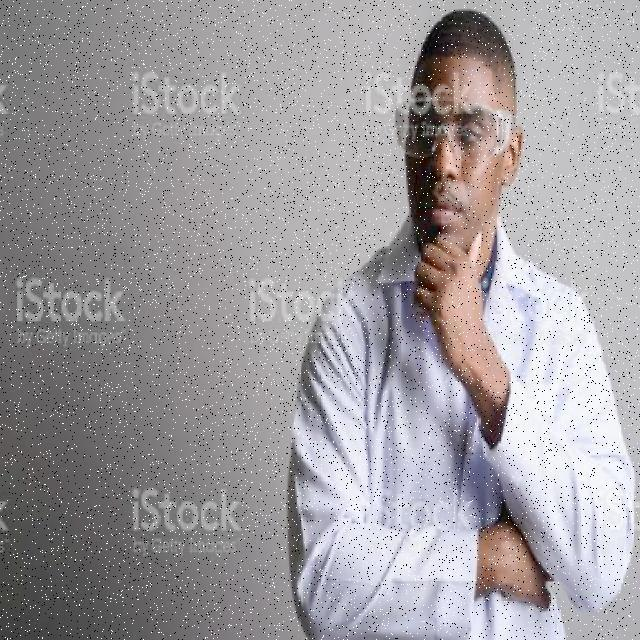Goggles: (386, 91, 522, 169)
